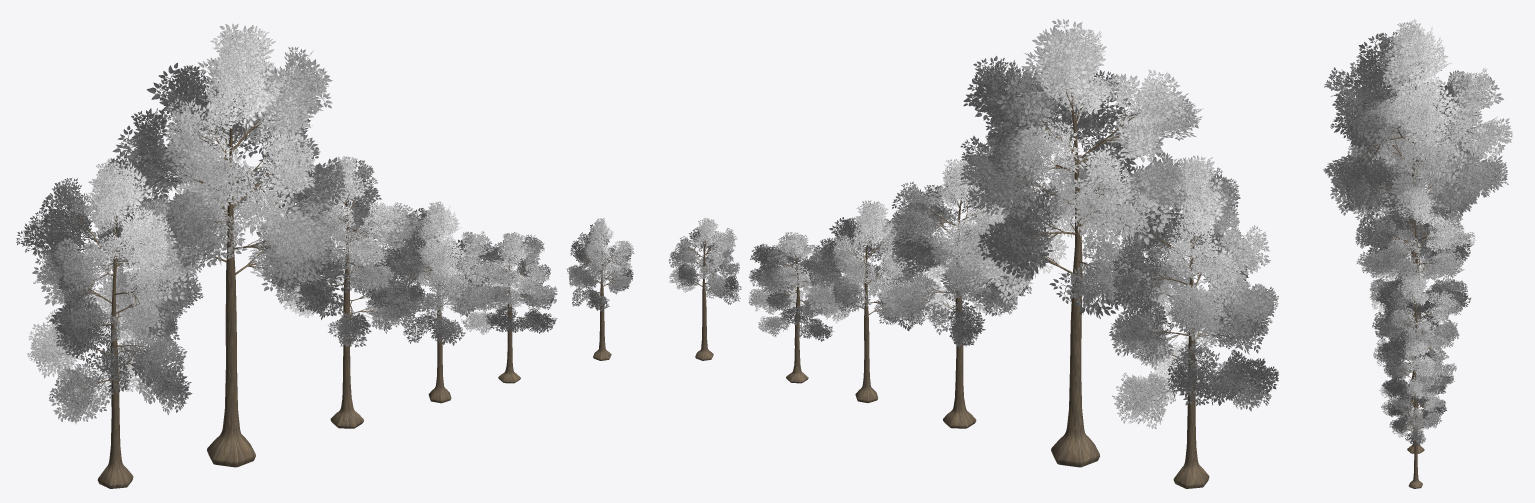
File: Trees_2A1.fbx
3 views of the same model, side by side, from view 1: azimuth 30°, elevation 25°; view 2: azimuth 150°, elevation 25°; view 3: azimuth 270°, elevation 25° (orthographic). The views are drawn at different scales.
Parts seen in each view (by area): view 1: Tree_2B2, Tree_2B1, Tree_2B3, Tree_2B4, Tree_2B5, Tree_2B6; view 2: Tree_2B2, Tree_2B1, Tree_2B3, Tree_2B4, Tree_2B5, Tree_2B6; view 3: Tree_2B2, Tree_2B3, Tree_2B4, Tree_2B5, Tree_2B6, Tree_2B1.
Part boxes in pixels (bbox=[...]): Tree_2B2: bbox=[103, 23, 350, 467]; Tree_2B1: bbox=[16, 159, 209, 488]; Tree_2B3: bbox=[275, 156, 422, 428]; Tree_2B4: bbox=[388, 201, 498, 403]; Tree_2B5: bbox=[461, 232, 557, 383]; Tree_2B6: bbox=[566, 218, 634, 360]; Tree_2B2: bbox=[957, 19, 1202, 467]; Tree_2B1: bbox=[1109, 155, 1278, 488]; Tree_2B3: bbox=[886, 156, 1032, 428]; Tree_2B4: bbox=[806, 200, 922, 402]; Tree_2B5: bbox=[748, 232, 842, 383]; Tree_2B6: bbox=[668, 217, 741, 360]; Tree_2B2: bbox=[1323, 19, 1512, 360]; Tree_2B3: bbox=[1355, 183, 1476, 386]; Tree_2B4: bbox=[1372, 271, 1462, 428]; Tree_2B5: bbox=[1374, 339, 1456, 453]; Tree_2B6: bbox=[1387, 377, 1444, 488]; Tree_2B1: bbox=[1347, 63, 1479, 311].
Size of what is drawn, in the model's own units: 2606 by 1809 by 1003.
